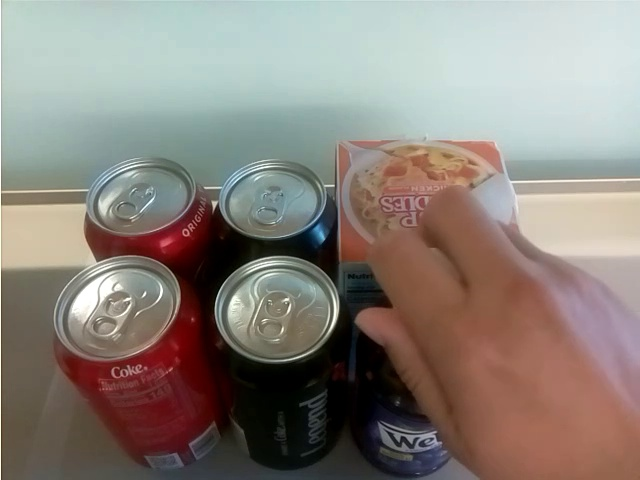cocacola: (49, 257, 215, 470)
cocacola-shadow: (83, 157, 212, 256)
cocacola-zero: (216, 256, 346, 473)
cocacola-zero-shadow: (214, 160, 331, 253)
hand: (354, 182, 637, 473)
juice: (363, 370, 468, 476)
noodles-shadow: (336, 139, 522, 259)
